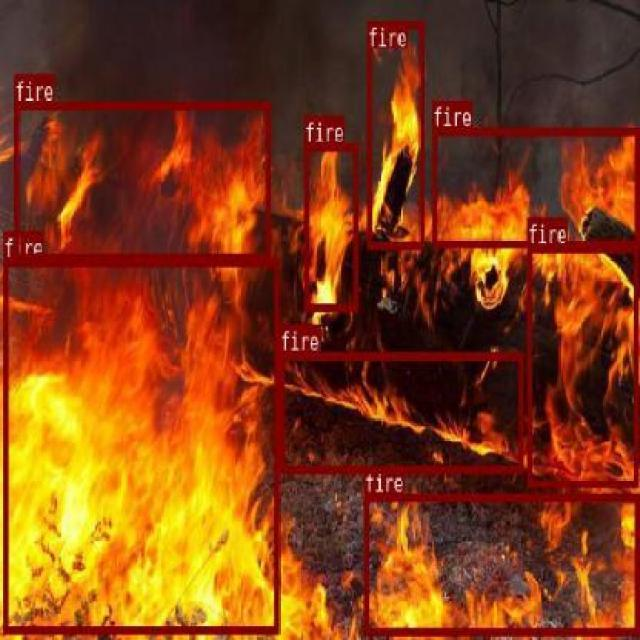Fire: (2, 258, 278, 632), (12, 100, 270, 260), (364, 493, 638, 633), (280, 352, 522, 474), (526, 244, 637, 486), (432, 127, 638, 246), (366, 19, 423, 248), (303, 142, 357, 310)
